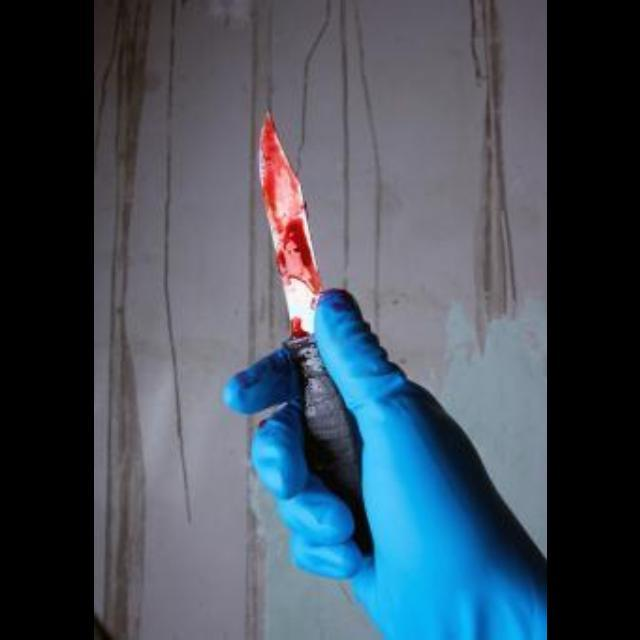blood: (259, 115, 321, 295)
